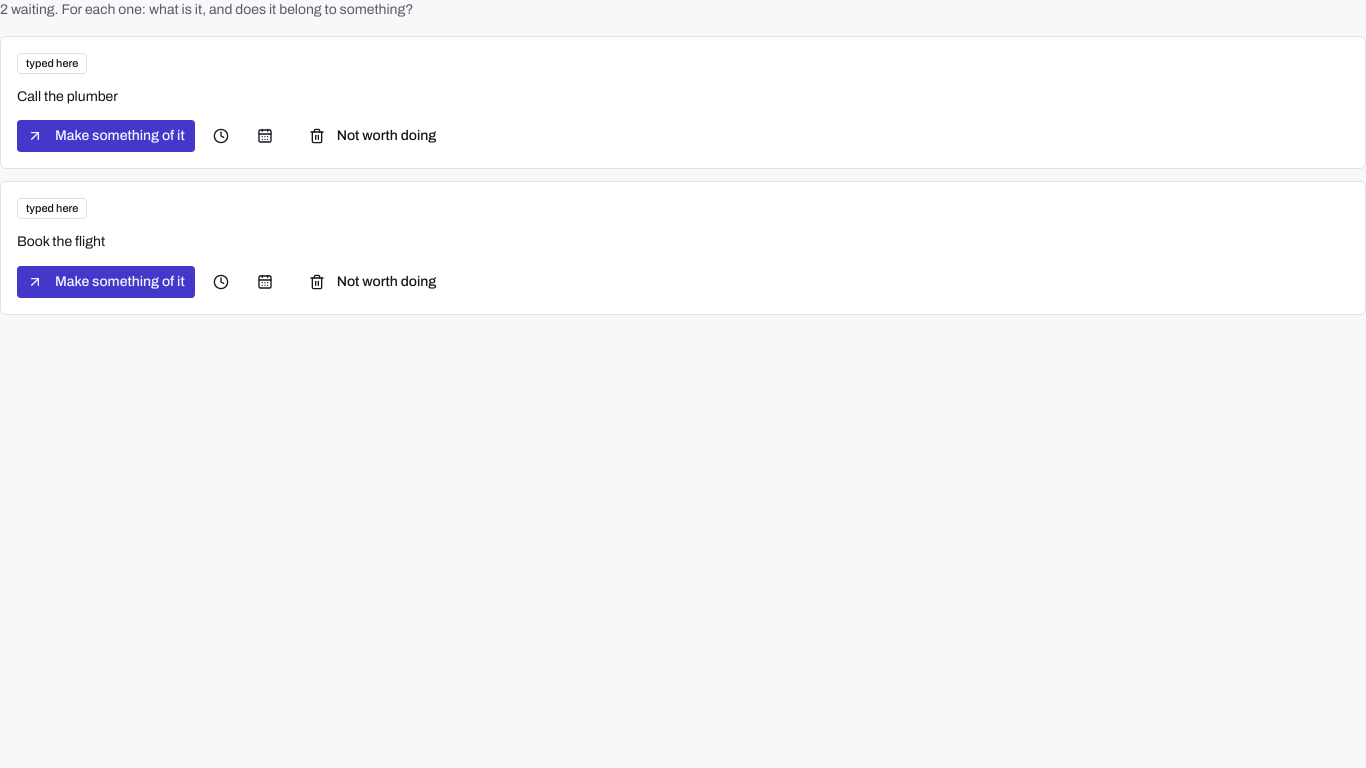
Test: InboxView › opens the promote dialog for the thought that was actually clicked
// The second card, not the first.
Click the button "Make something of it" below "Book the flight": click(106, 282) [17,266,195,298]
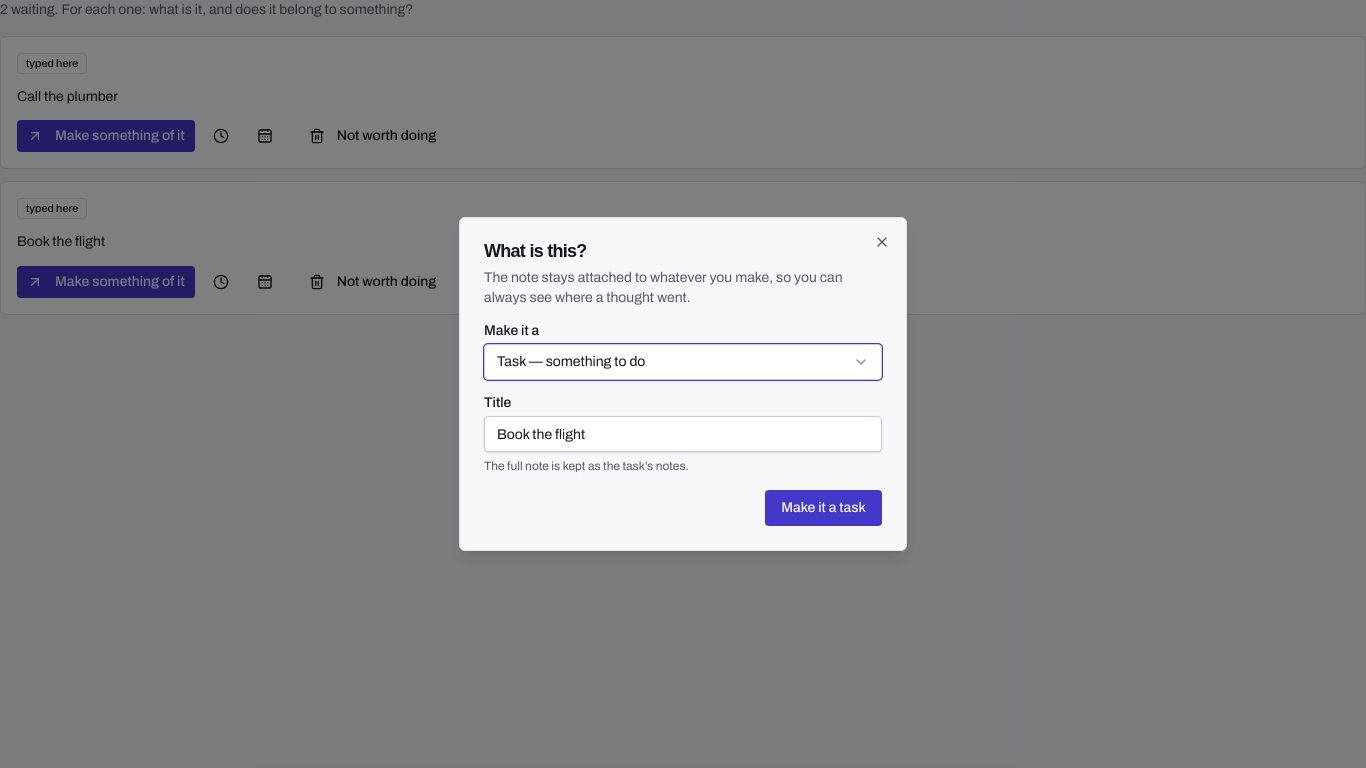
Check: the field labelled "Title" holds "Book the flight", box [484,416,882,452]
